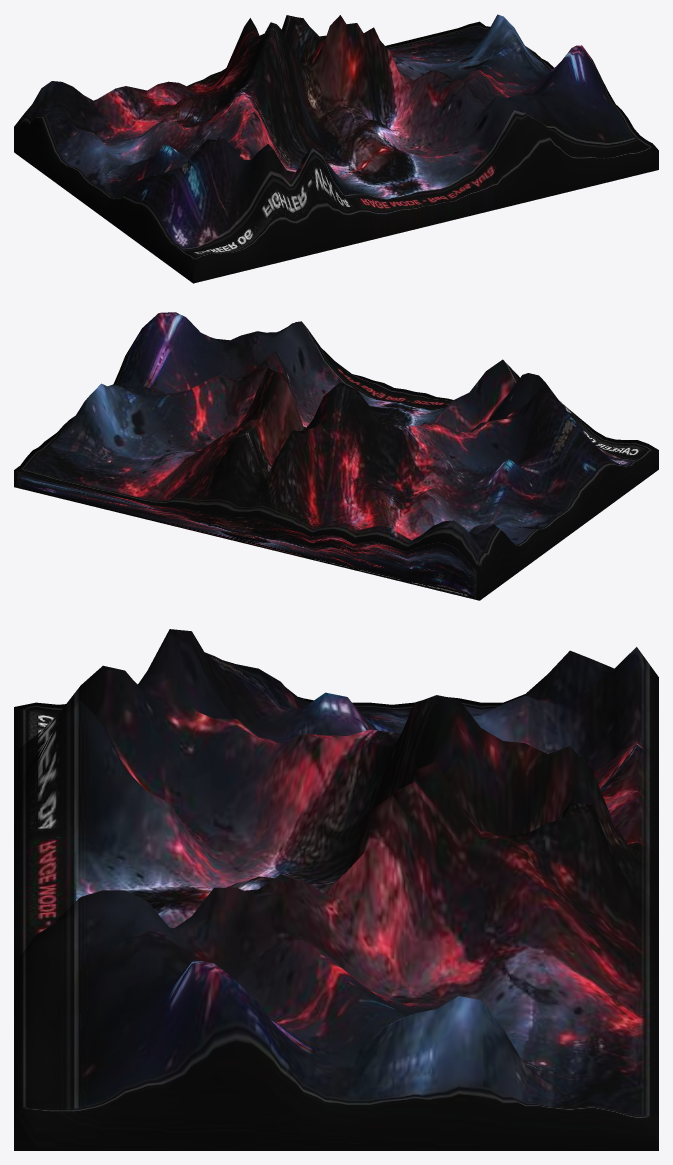
File: CAREER_06_VFX_04_Rage.glb
3 renders of one model, top to bottom at view 1: azimuth 30°, elevation 25°; view 2: azimuth 150°, elevation 25°; view 3: azimuth 270°, elevation 25°, orthographic. The views are drawn at different scales.
Parts seen in each view (by area): view 1: CAREER_06_VFX_04_Rage; view 2: CAREER_06_VFX_04_Rage; view 3: CAREER_06_VFX_04_Rage.
Part boxes in pixels (x1,y1,x2,y2): CAREER_06_VFX_04_Rage: (14, 14, 658, 283); CAREER_06_VFX_04_Rage: (14, 312, 658, 600); CAREER_06_VFX_04_Rage: (14, 629, 658, 1150).
Size of the model in its own units: 2 by 0.51 by 1.33.
1 material, 1 textured.
